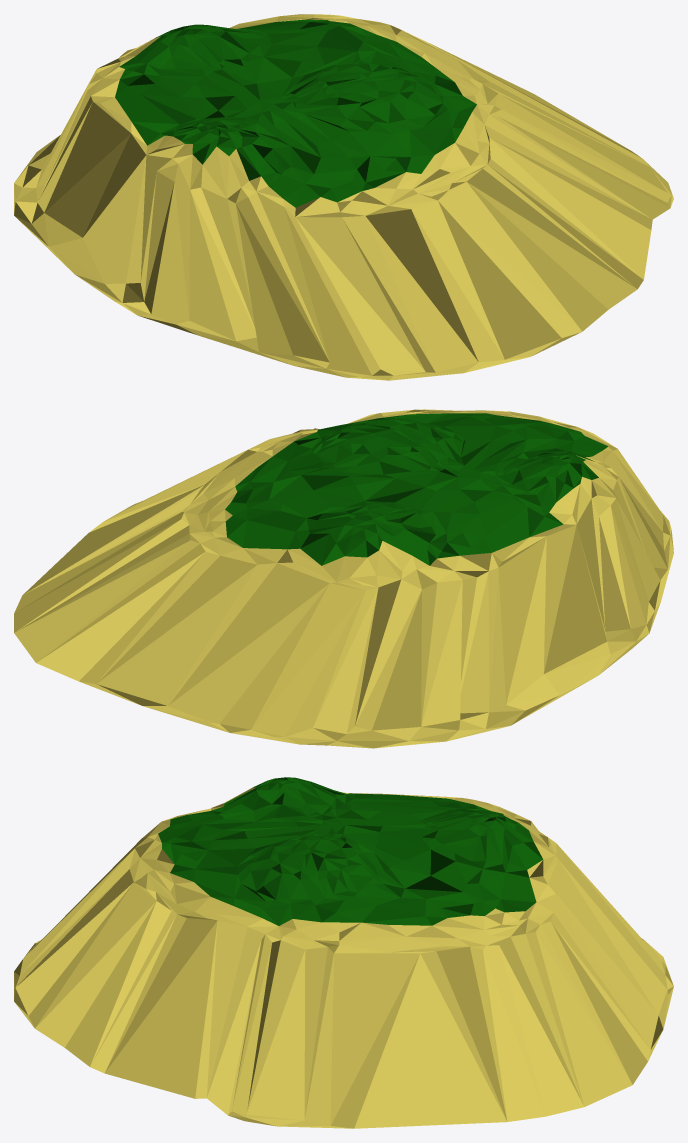
File: Island4.FBX
The picture shows the model from 3 angles, top to bottom: view 1: azimuth 30°, elevation 25°; view 2: azimuth 150°, elevation 25°; view 3: azimuth 270°, elevation 25°; orthographic projection. The views are drawn at different scales.
Parts seen in each view (by area): view 1: Sphere006; view 2: Sphere006; view 3: Sphere006.
Boxes of the visible parts, x1,y1,x2,y2 form: Sphere006: (14,14,673,380); Sphere006: (14,409,673,748); Sphere006: (14,777,673,1128).
Size of the model in its own units: 1562 by 1788 by 450.
